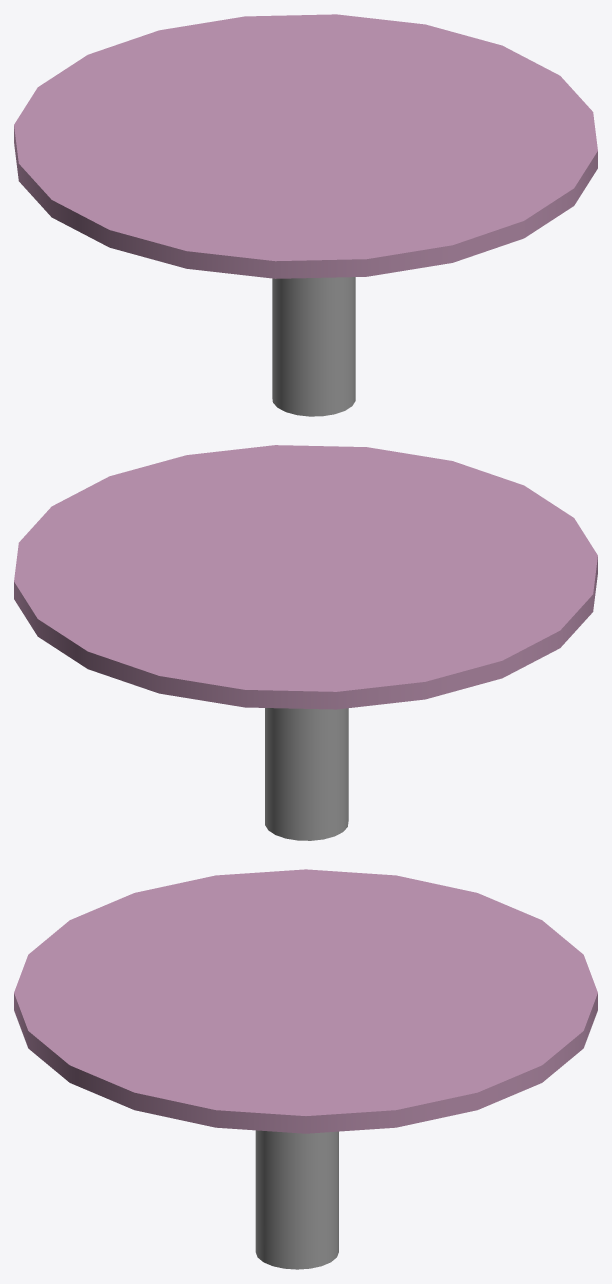
File: Table.fbx
3 views of the same model, one above another, from view 1: azimuth 30°, elevation 25°; view 2: azimuth 150°, elevation 25°; view 3: azimuth 270°, elevation 25° (orthographic).
Parts seen in each view (by area): view 1: pCylinder4; view 2: pCylinder4; view 3: pCylinder4.
Boxes of the visible parts, left/top/right/bottom form: pCylinder4: left=14, top=14, right=597, bottom=416; pCylinder4: left=14, top=445, right=597, bottom=840; pCylinder4: left=14, top=869, right=597, bottom=1269.
Size of the model in its own units: 2.91 by 1.42 by 2.91.
